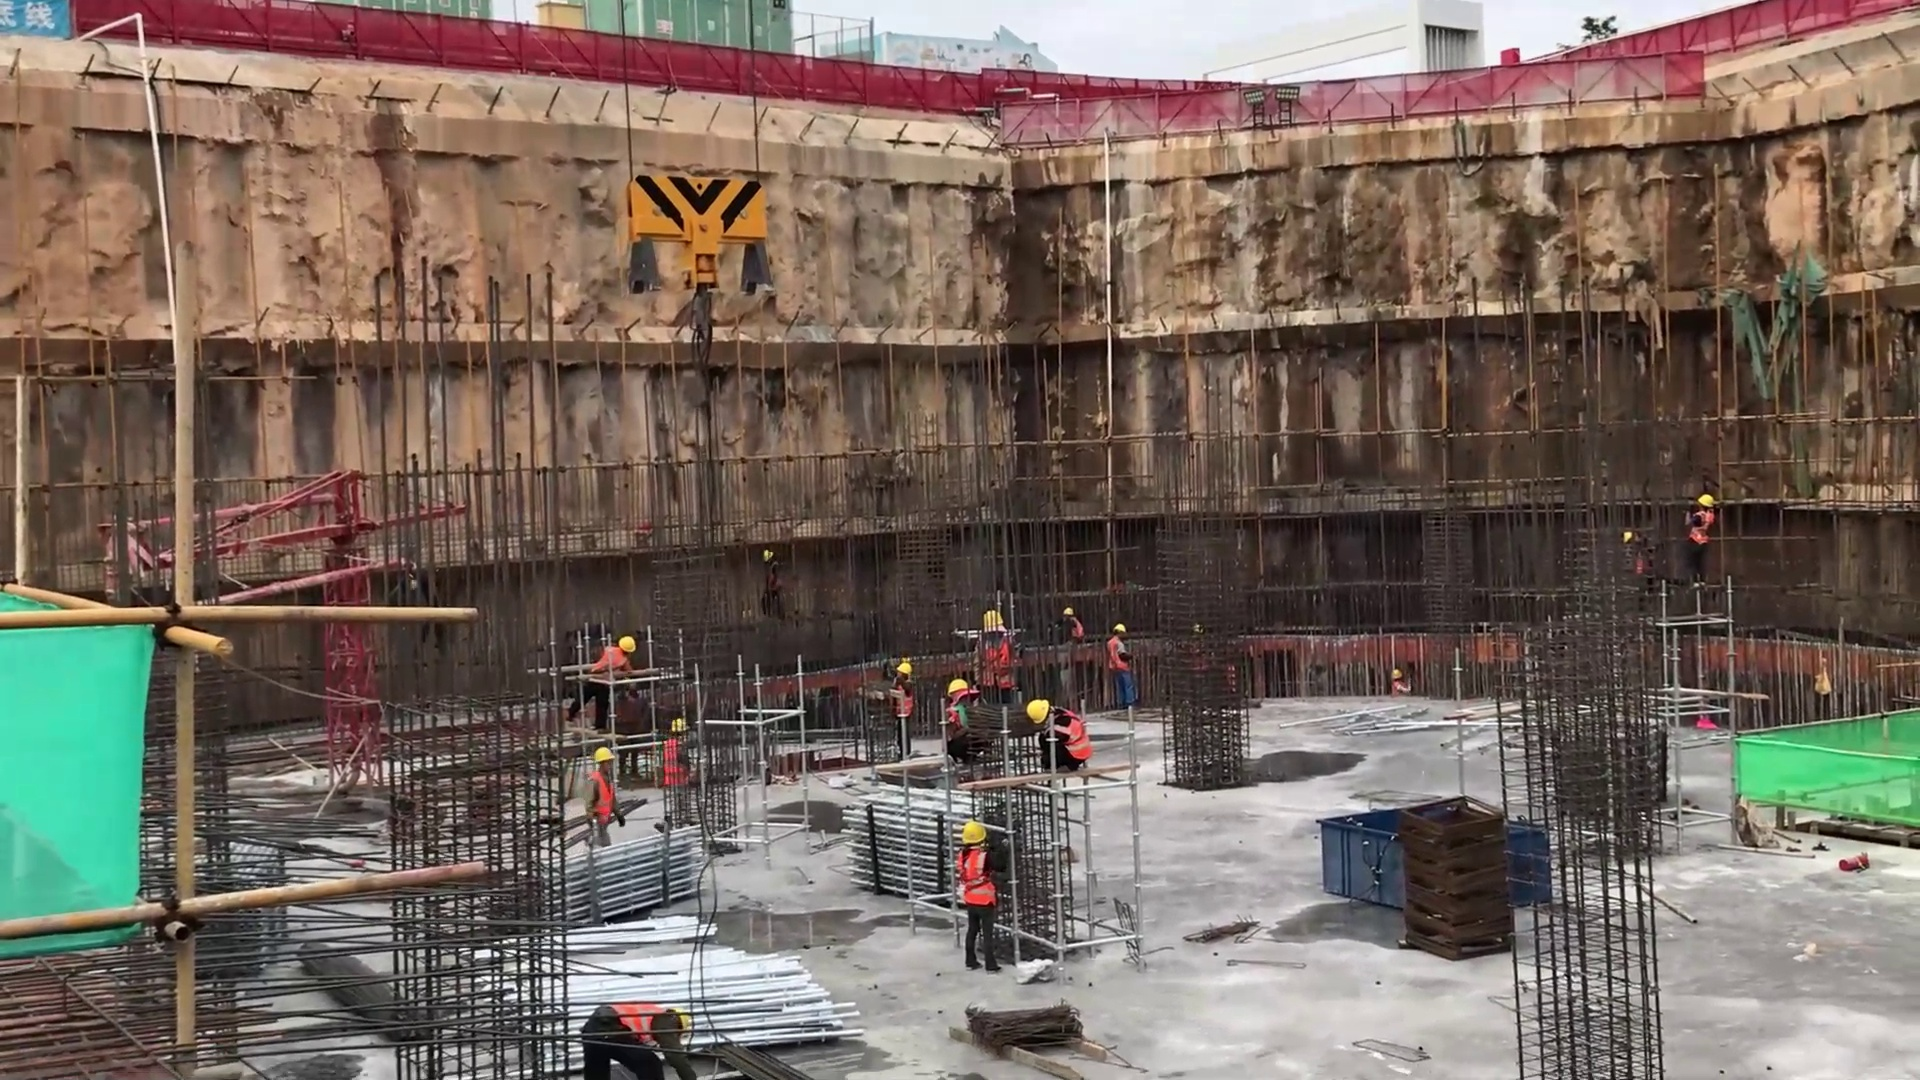ebox: (535, 1, 591, 38)
fence: (319, 8, 515, 73)
helmet: (960, 820, 992, 846), (1025, 697, 1052, 724), (591, 742, 617, 765), (982, 609, 1012, 629), (616, 633, 637, 657), (948, 678, 967, 700), (897, 660, 915, 679), (1696, 492, 1716, 509), (1113, 623, 1128, 635)
hook: (623, 165, 778, 357)
hopper: (1306, 793, 1570, 920)
person: (576, 997, 698, 1080), (956, 820, 1003, 976), (1017, 694, 1101, 771), (574, 632, 645, 722), (580, 739, 635, 844), (662, 714, 699, 839), (979, 606, 1026, 698), (942, 680, 991, 761), (891, 651, 928, 759), (1689, 491, 1726, 593), (1105, 618, 1142, 704), (755, 548, 793, 620), (1057, 604, 1087, 641), (1390, 664, 1412, 695)
rebar: (964, 996, 1085, 1056)
scaffold: (578, 920, 859, 1011), (564, 841, 715, 933), (849, 783, 949, 909)
vest: (958, 846, 999, 912), (611, 1001, 673, 1038), (978, 635, 1021, 689), (1052, 710, 1093, 761), (661, 737, 698, 790), (587, 772, 616, 832), (893, 680, 920, 721), (1106, 637, 1132, 679), (595, 643, 630, 671), (1068, 617, 1084, 636)
